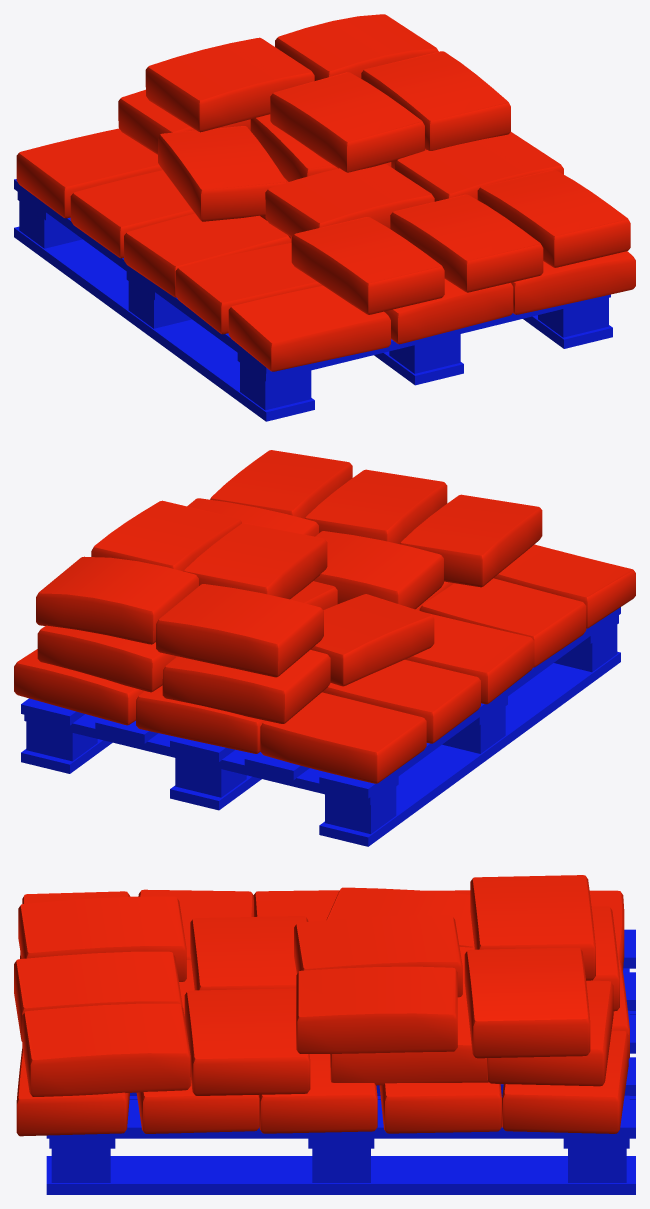
File: pallet_full_01.FBX
3 views of the same model, one above another, from view 1: azimuth 30°, elevation 25°; view 2: azimuth 150°, elevation 25°; view 3: azimuth 270°, elevation 25° (orthographic). The views are drawn at different scales.
Parts seen in each view (by area): view 1: pallet_LP001; view 2: pallet_LP001; view 3: pallet_LP001.
Part boxes in pixels (bbox=[...]): pallet_LP001: bbox=[14, 14, 635, 421]; pallet_LP001: bbox=[14, 450, 635, 846]; pallet_LP001: bbox=[14, 875, 635, 1194].
Bounding box in the file's own units: 120 × 50.13 × 150.
